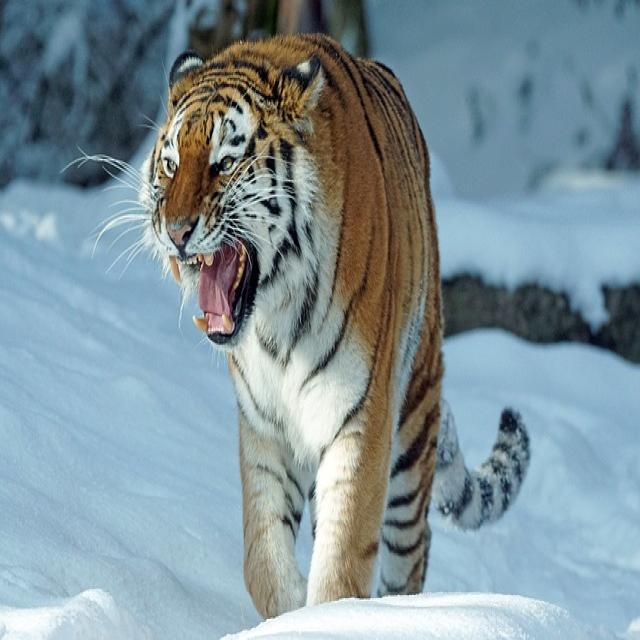Carnivorous: (137, 33, 527, 622)
